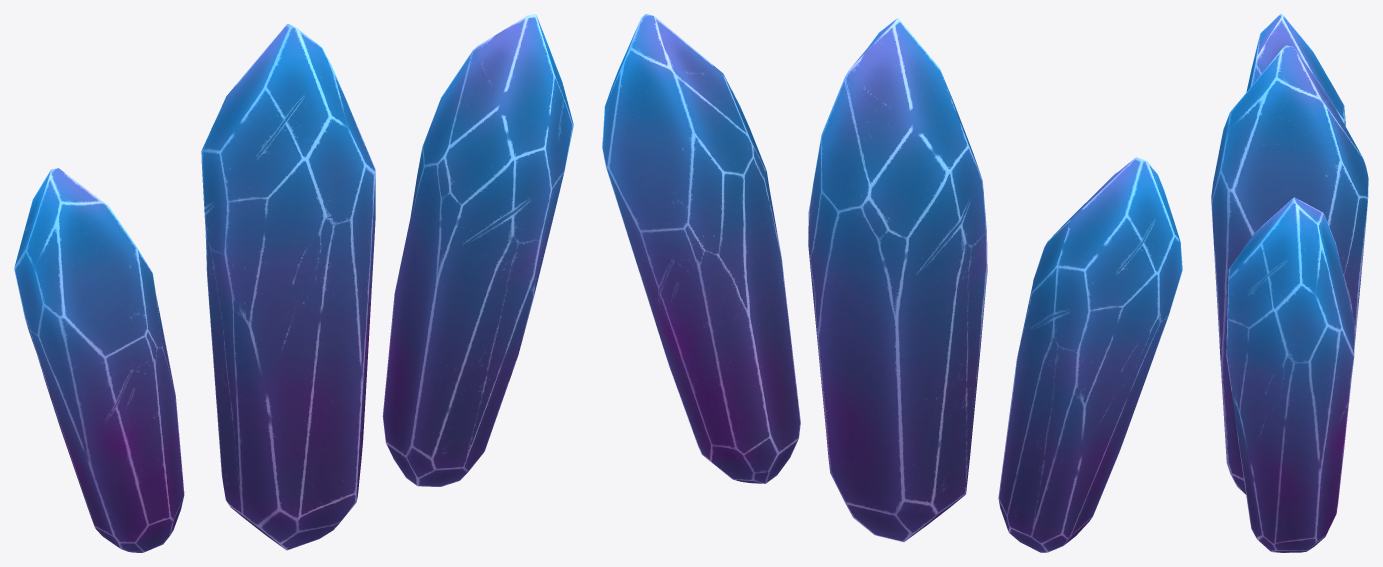
File: mushroom.catalog.glb
3 renders of one model, left to right at view 1: azimuth 30°, elevation 25°; view 2: azimuth 150°, elevation 25°; view 3: azimuth 270°, elevation 25°, orthographic. The views are drawn at different scales.
Parts seen in each view (by area): view 1: Group44266, Group44267, Group44268; view 2: Group44266, Group44267, Group44268; view 3: Group44267, Group44266, Group44268.
Boxes of the visible parts, x1,y1,x2,y2 form: Group44266: (201,24,375,550); Group44267: (382,14,573,486); Group44268: (14,168,184,552); Group44266: (808,18,987,542); Group44267: (602,14,800,483); Group44268: (998,157,1182,552); Group44267: (1226,197,1354,552); Group44266: (1211,45,1368,494); Group44268: (1246,14,1345,125).
Size of the model in its own units: 2.24 by 2 by 0.6202.
Materials: 1 (1 with a texture image).
